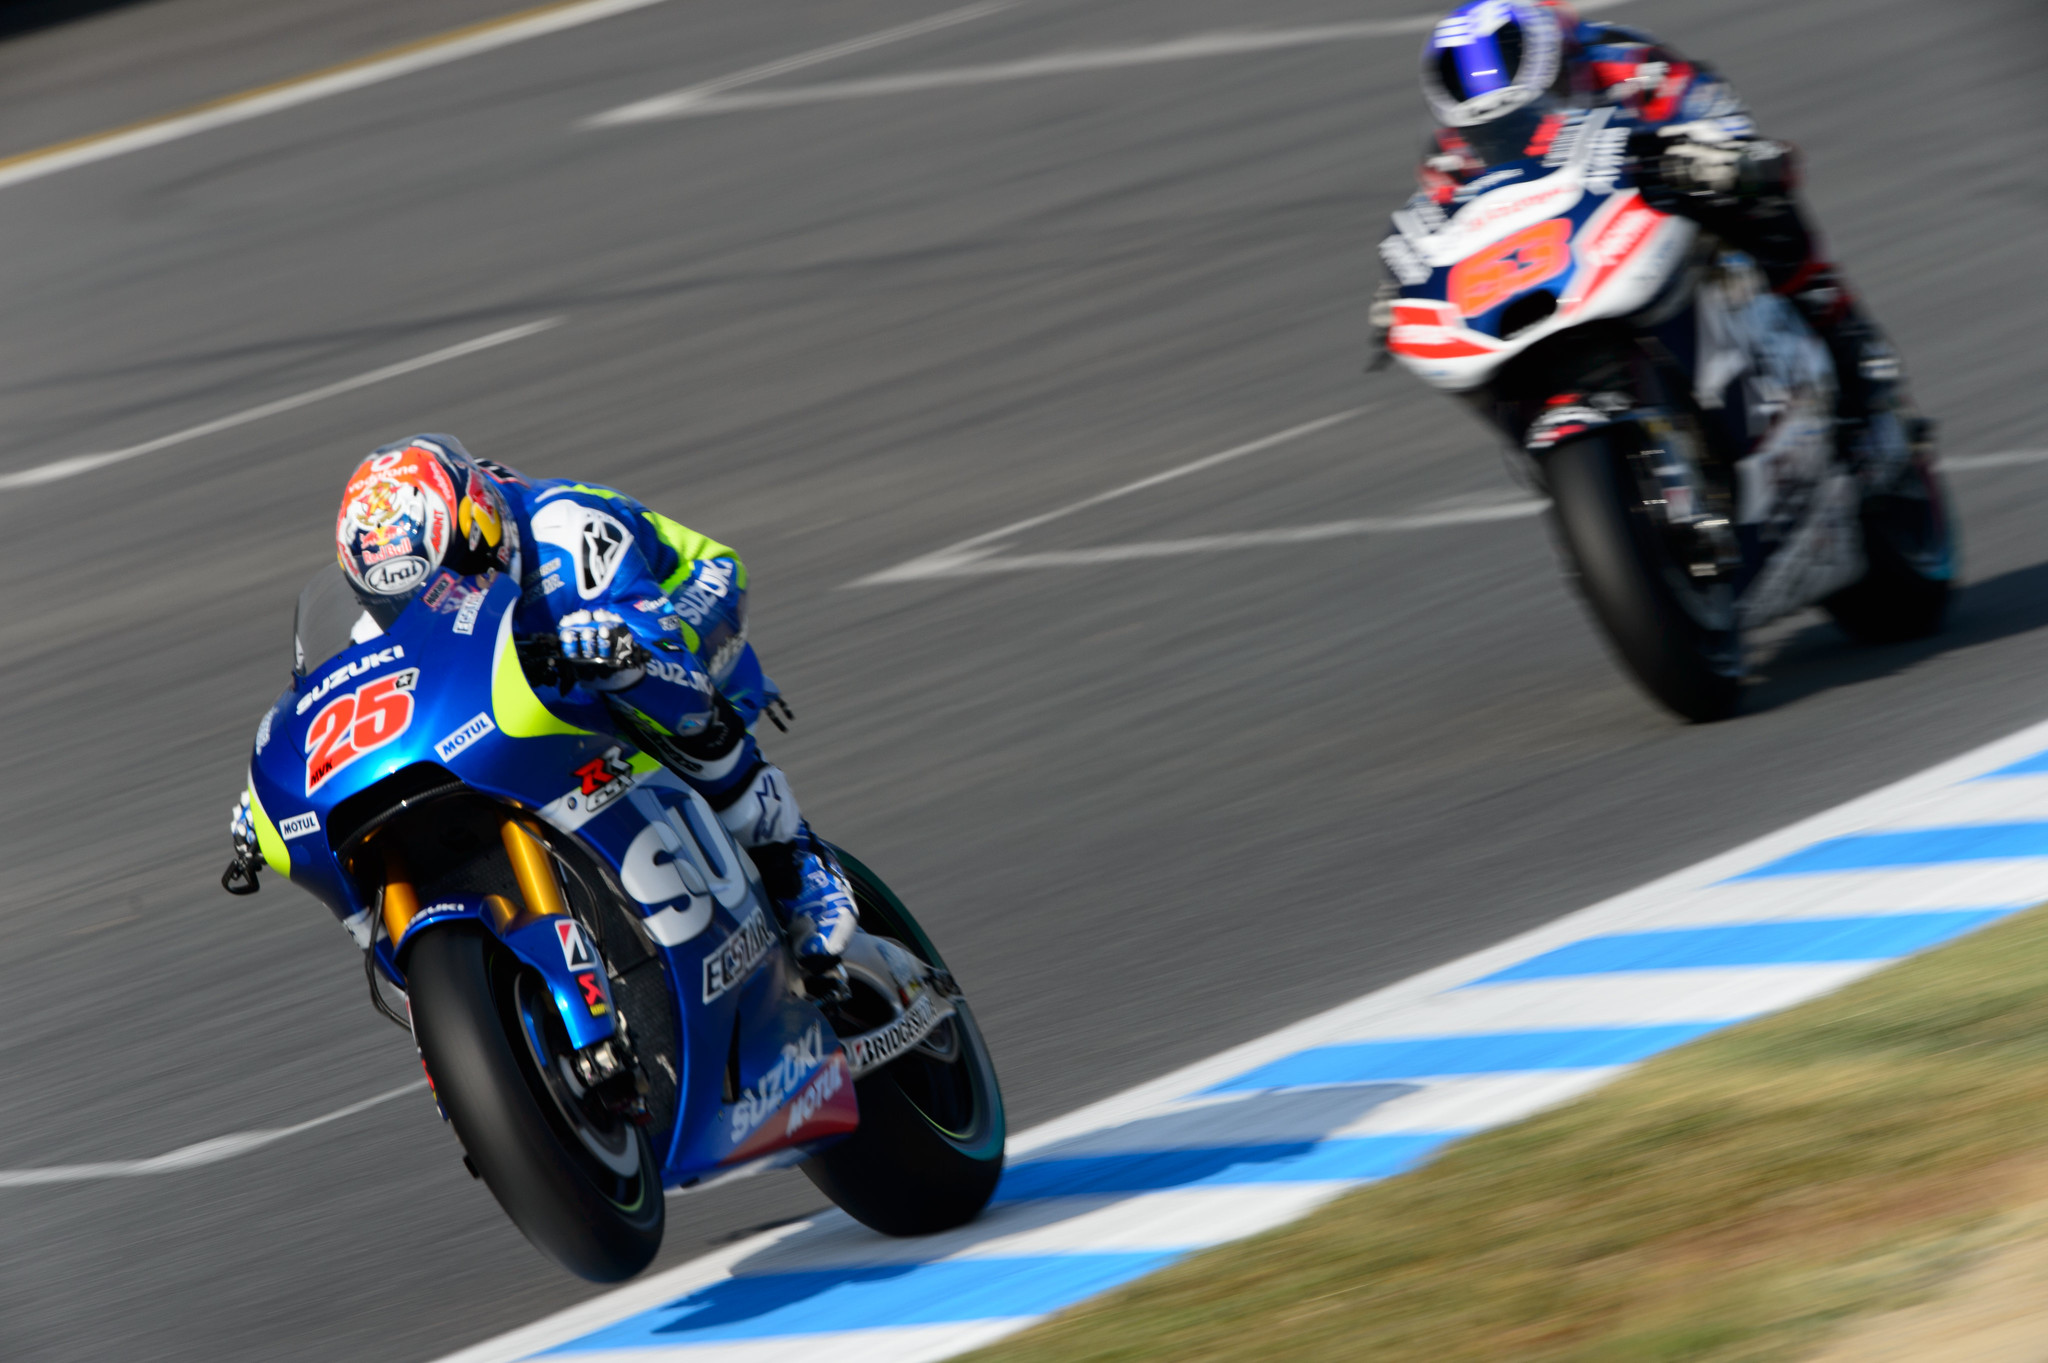motor bike: (235, 620, 1057, 1258), (1378, 170, 2020, 728)
person: (314, 425, 933, 925)
